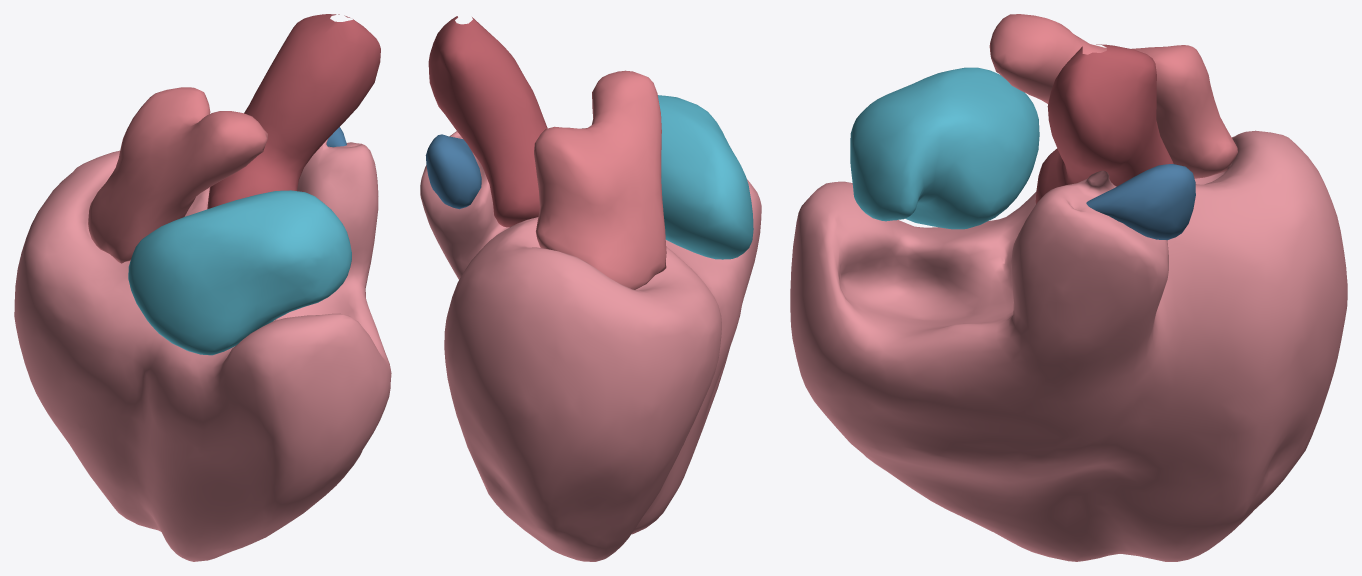
The model's file is frame_63.glb.
The picture shows the model from 3 angles, left to right: view 1: azimuth 30°, elevation 25°; view 2: azimuth 150°, elevation 25°; view 3: azimuth 270°, elevation 25°; orthographic projection. The views are drawn at different scales.
Parts seen in each view (by area): view 1: Renderer Node; view 2: Renderer Node; view 3: Renderer Node.
Part boxes in pixels (box(x1,y1,x2,y2)): Renderer Node: box(14, 14, 391, 561); Renderer Node: box(420, 16, 761, 561); Renderer Node: box(790, 14, 1347, 561).
Bounding box in the file's own units: 107 × 164 × 137.
